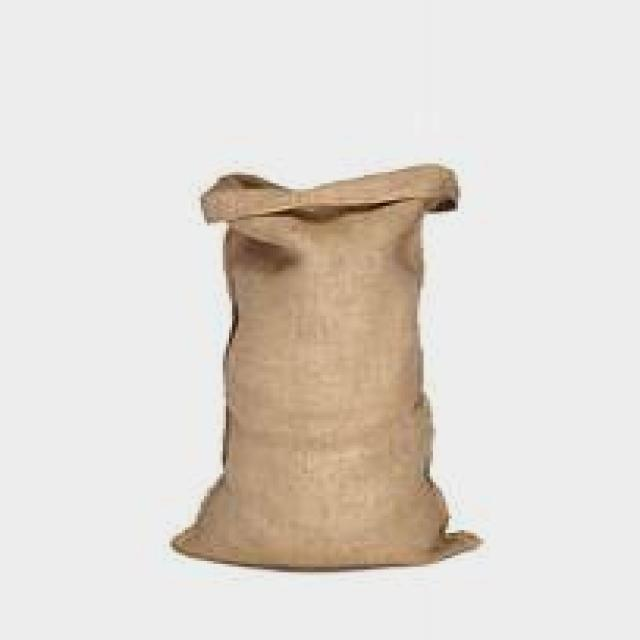gunny_bag: (162, 163, 492, 572)
